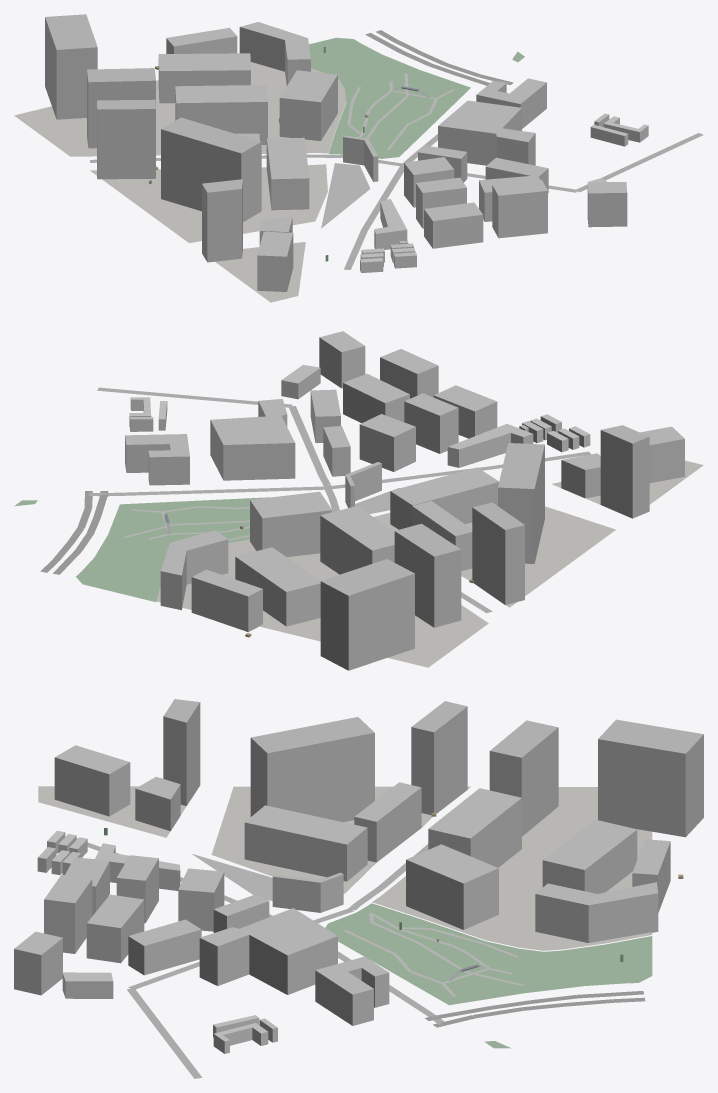
3 views of the same model, one above another, from view 1: azimuth 30°, elevation 25°; view 2: azimuth 150°, elevation 25°; view 3: azimuth 270°, elevation 25° (orthographic). The views are drawn at different scales.
Bounding box in the file's own units: 567 × 77.32 × 562.
